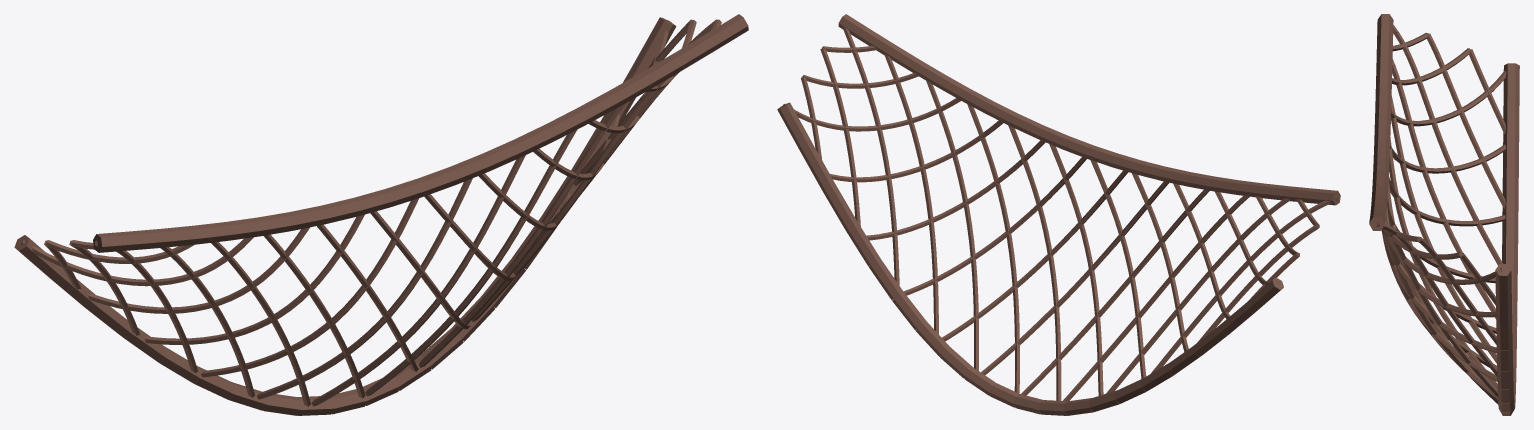
Rendered from StowageNet.glb.
3 views of the same model, side by side, from view 1: azimuth 30°, elevation 25°; view 2: azimuth 150°, elevation 25°; view 3: azimuth 270°, elevation 25° (orthographic). The views are drawn at different scales.
Visible parts, largest first — view 1: StowageNet; view 2: StowageNet; view 3: StowageNet.
Part boxes in pixels (<box>): StowageNet: <box>14,14,748,415</box>; StowageNet: <box>777,14,1340,415</box>; StowageNet: <box>1369,14,1519,415</box>.
Size of the model in its own units: 1.5 by 0.8172 by 0.358.
